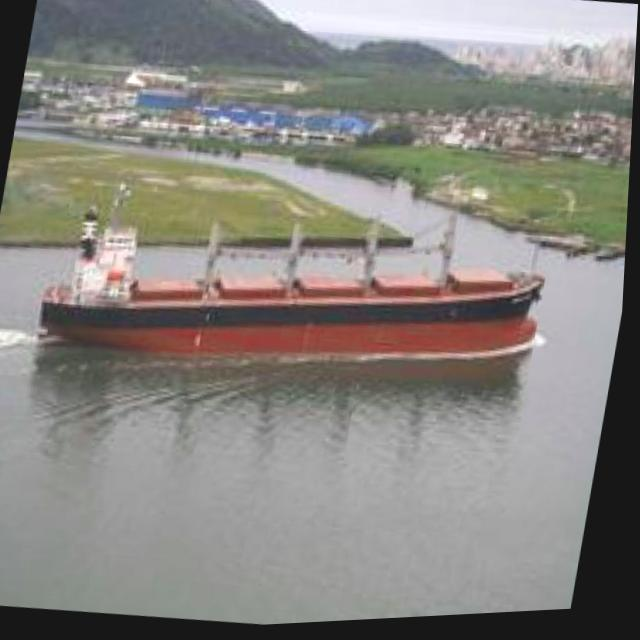ship2: (37, 201, 549, 374)
